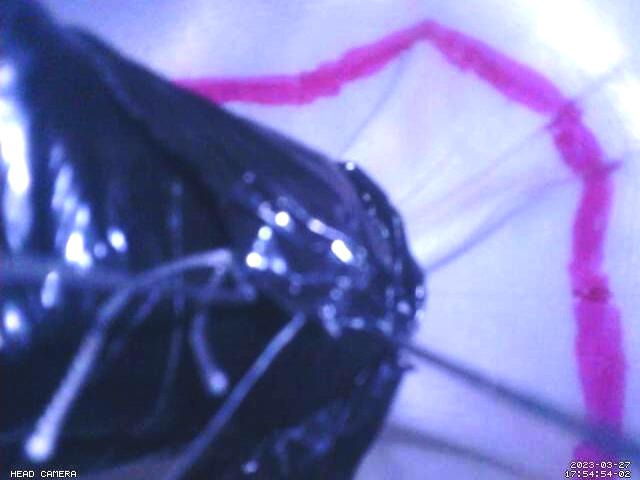red-circle: (170, 18, 629, 480)
